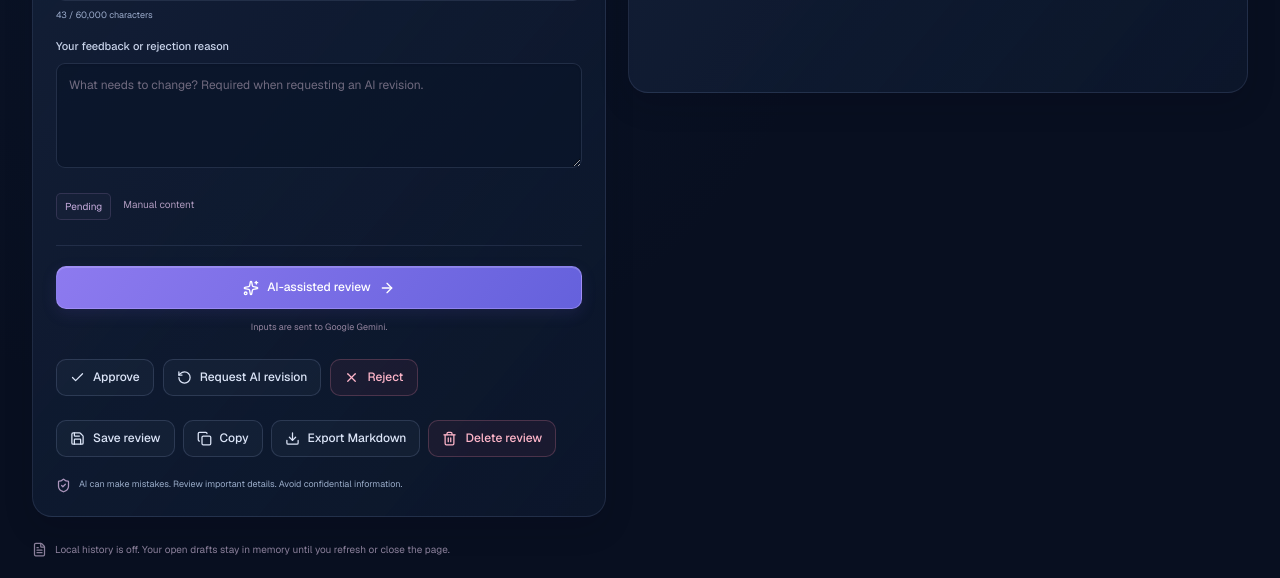
editable AI workspace › supports approve and reopen with content retained
(page scrolled)
Click the button "Approve" at (105, 377), box x1=56 y1=359 x2=154 y2=396
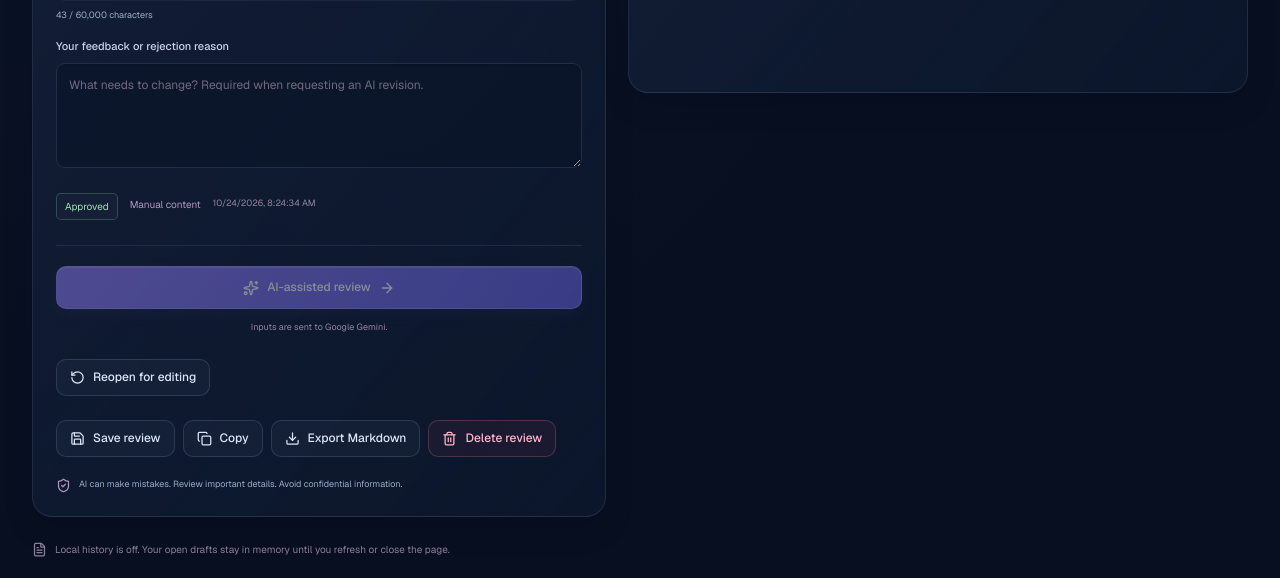
expect the text "Approved" is shown: met, box x1=56 y1=193 x2=118 y2=220
Click the button "Reopen for editing" at (133, 377), box x1=56 y1=359 x2=210 y2=396
(page scrolled)
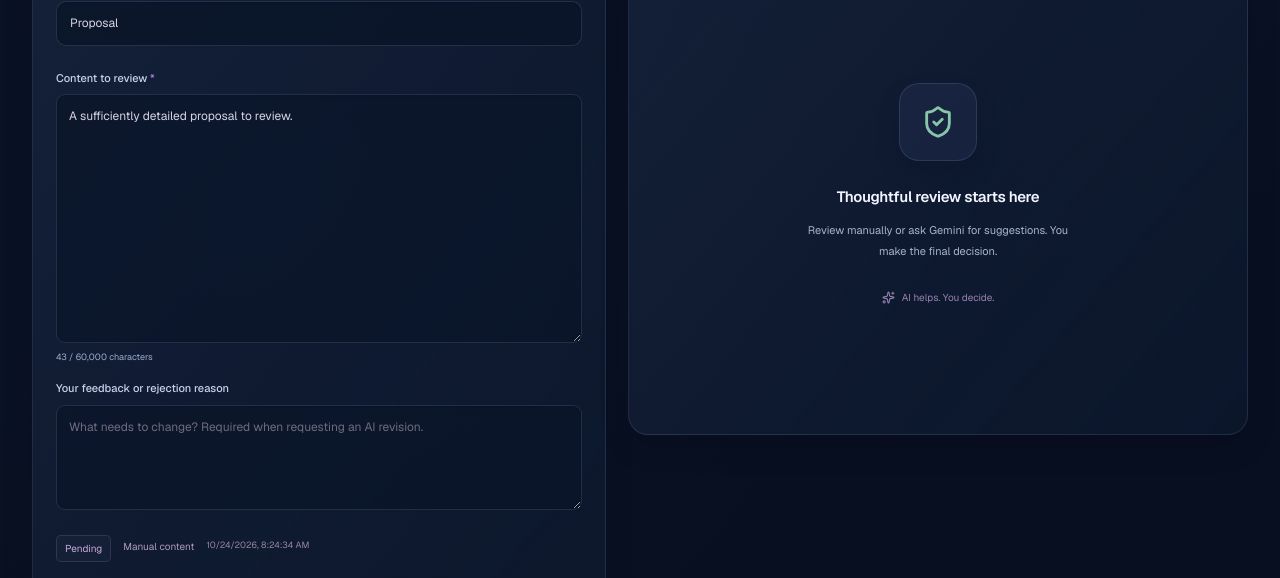
expect the text box labelled "Content to review * 43 / 60,000 characters" is enabled: met, box x1=56 y1=94 x2=582 y2=343
